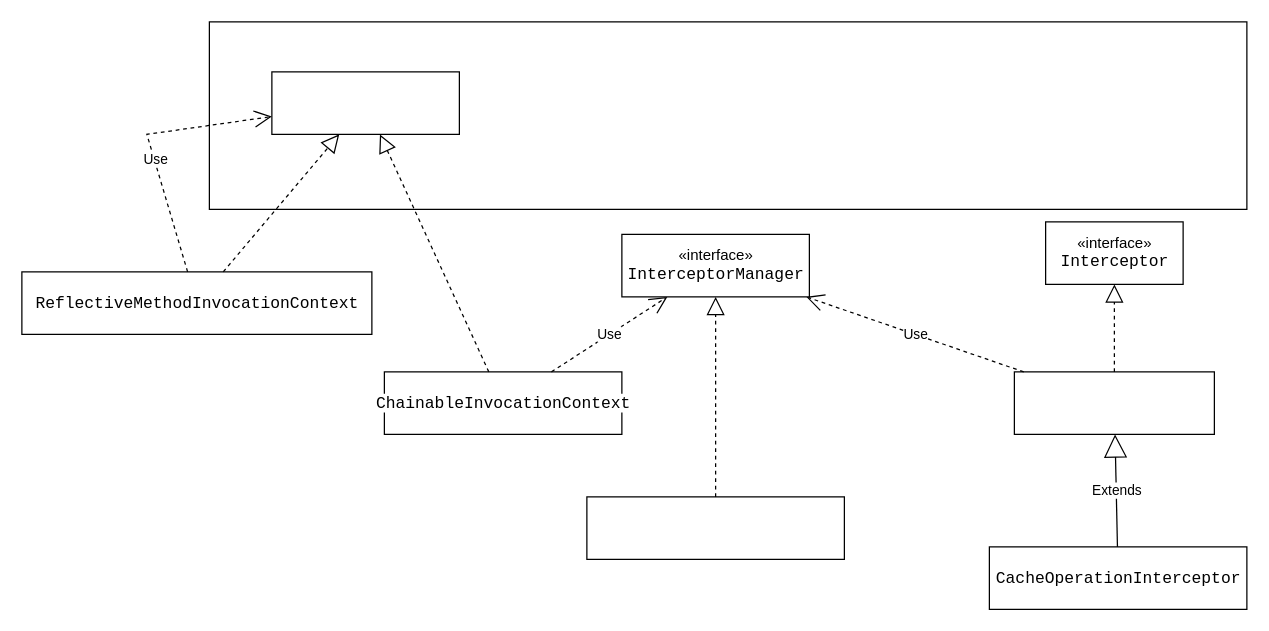
Some shapes in this 1269 by 631 pixel diagram are drawn without their labels. The shapes that lost their labels are listed below. From the top down, each one's centre as x and y in pixels, then its label:
point (365, 102): «interface» InvocationContext
point (1113, 402): AnnotatedInterceptor
point (715, 527): DefaultInterceptorManager
